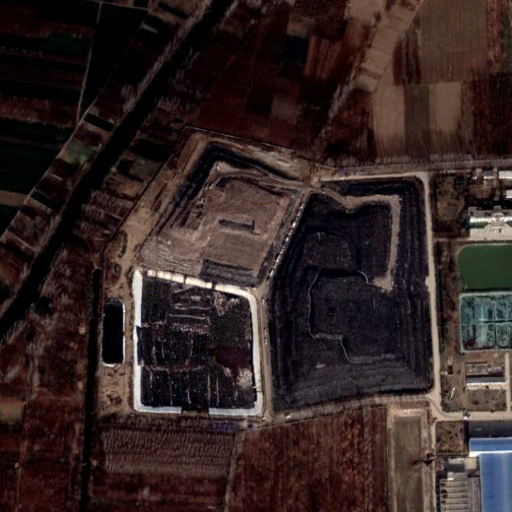lf: (137, 135, 434, 411)
